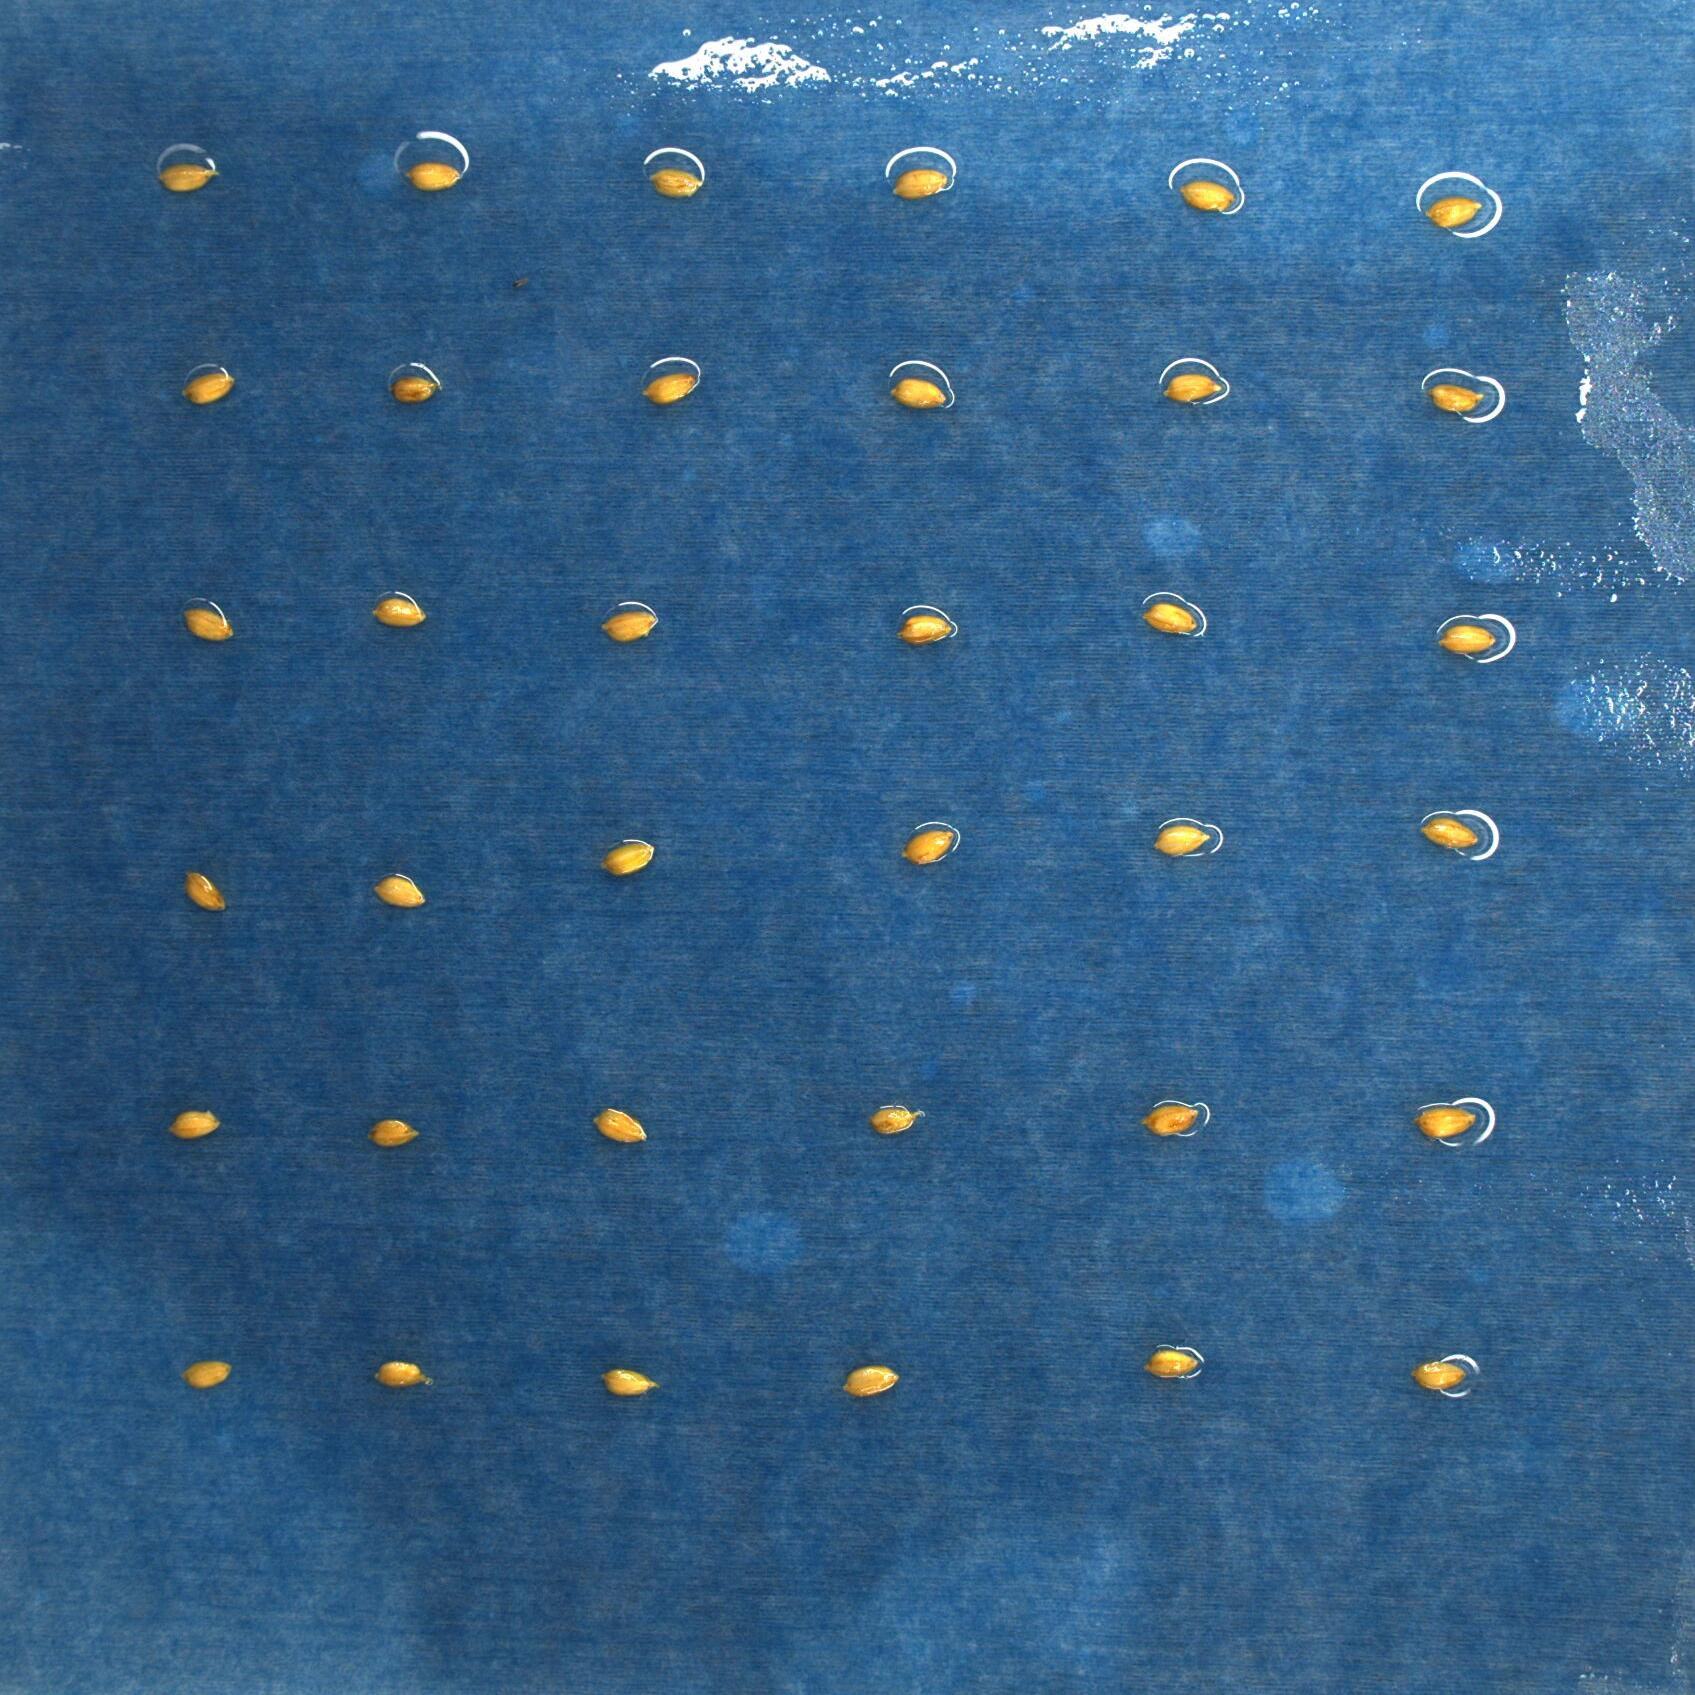not sprout: (1412, 1104, 1479, 1144), (903, 826, 958, 871), (1180, 175, 1237, 216), (591, 1107, 649, 1147), (405, 158, 466, 196), (1423, 380, 1484, 418), (601, 608, 660, 646), (896, 612, 955, 649), (601, 837, 657, 875), (1439, 624, 1496, 661), (1161, 371, 1223, 405), (1425, 196, 1484, 231), (844, 1364, 903, 1400), (1420, 816, 1481, 851), (182, 369, 234, 408), (1142, 602, 1201, 636), (376, 872, 425, 913), (157, 163, 217, 196), (1411, 1360, 1471, 1392), (1146, 1104, 1200, 1139), (640, 371, 698, 404), (371, 593, 424, 629), (1152, 824, 1209, 857), (1142, 1349, 1200, 1381), (872, 1104, 927, 1138), (893, 377, 951, 408), (896, 168, 951, 200), (185, 872, 228, 914), (376, 1360, 433, 1391), (185, 608, 230, 647), (165, 1108, 220, 1139), (368, 1119, 421, 1152), (601, 1371, 661, 1399), (649, 168, 700, 200), (182, 1360, 231, 1392), (385, 376, 438, 404)
